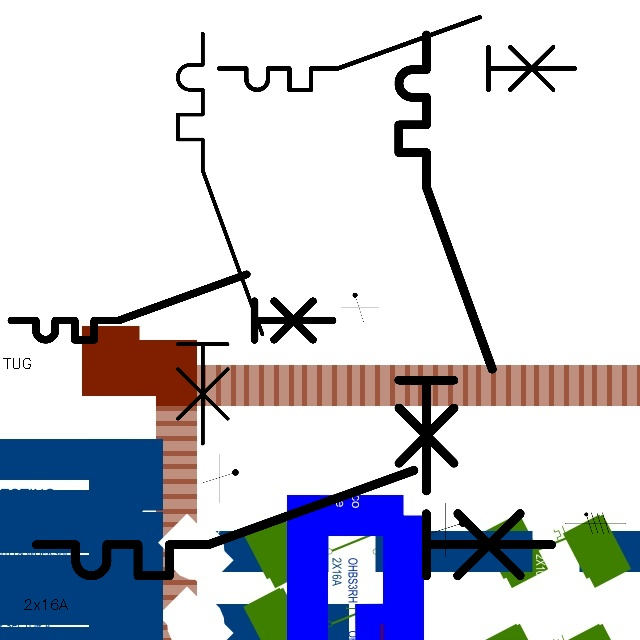interruptor_termomagnetico: (23, 457, 564, 589), (387, 23, 504, 503), (167, 23, 272, 454), (210, 8, 584, 99), (3, 266, 341, 348)
